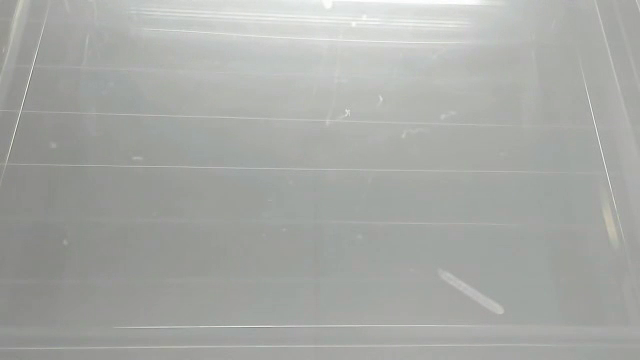alpha: (434, 263, 509, 318)
